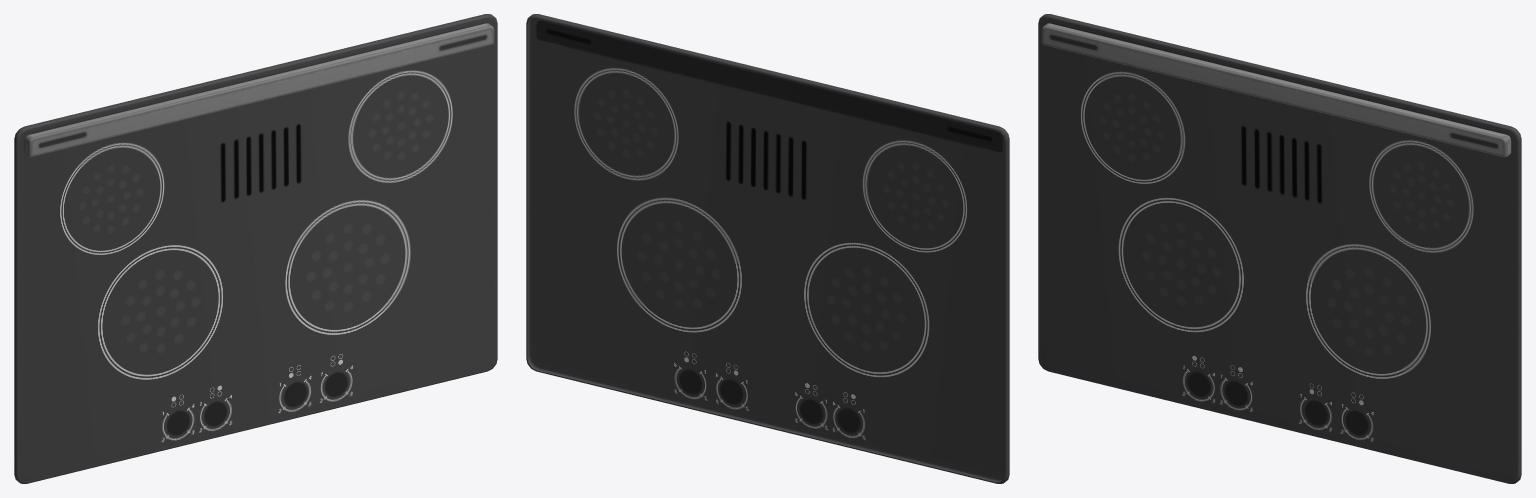
Rendered from stovetop_main_group_main_model_0.obj.
3 renders of one model, left to right at view 1: azimuth 30°, elevation 25°; view 2: azimuth 150°, elevation 25°; view 3: azimuth 330°, elevation 25°, orthographic.
Size of the model in its own units: 1 by 0.7066 by 0.0293.
1 material, 1 textured.
